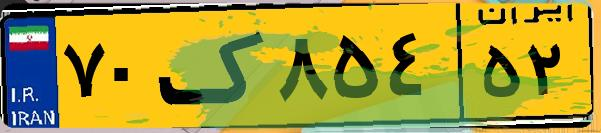0: (110, 28, 158, 98)
2: (525, 38, 570, 115)
4: (385, 28, 445, 110)
5: (330, 28, 385, 110), (475, 38, 525, 113)
7: (57, 26, 110, 100)
8: (270, 28, 330, 110)
ک: (158, 12, 270, 120)
